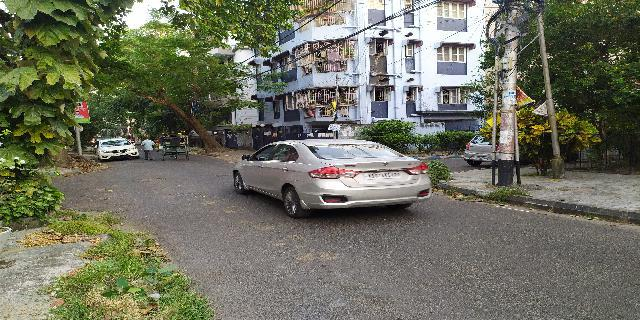Car: (228, 132, 435, 218), (91, 133, 140, 163)
